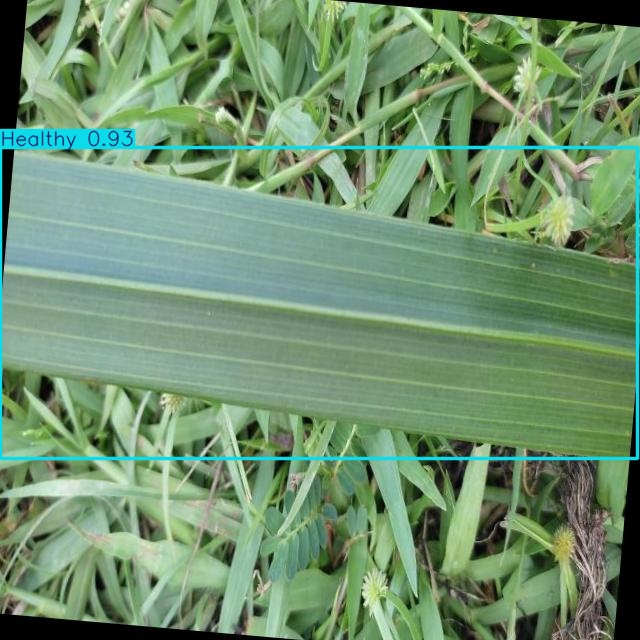Healthy: (1, 148, 638, 459)
